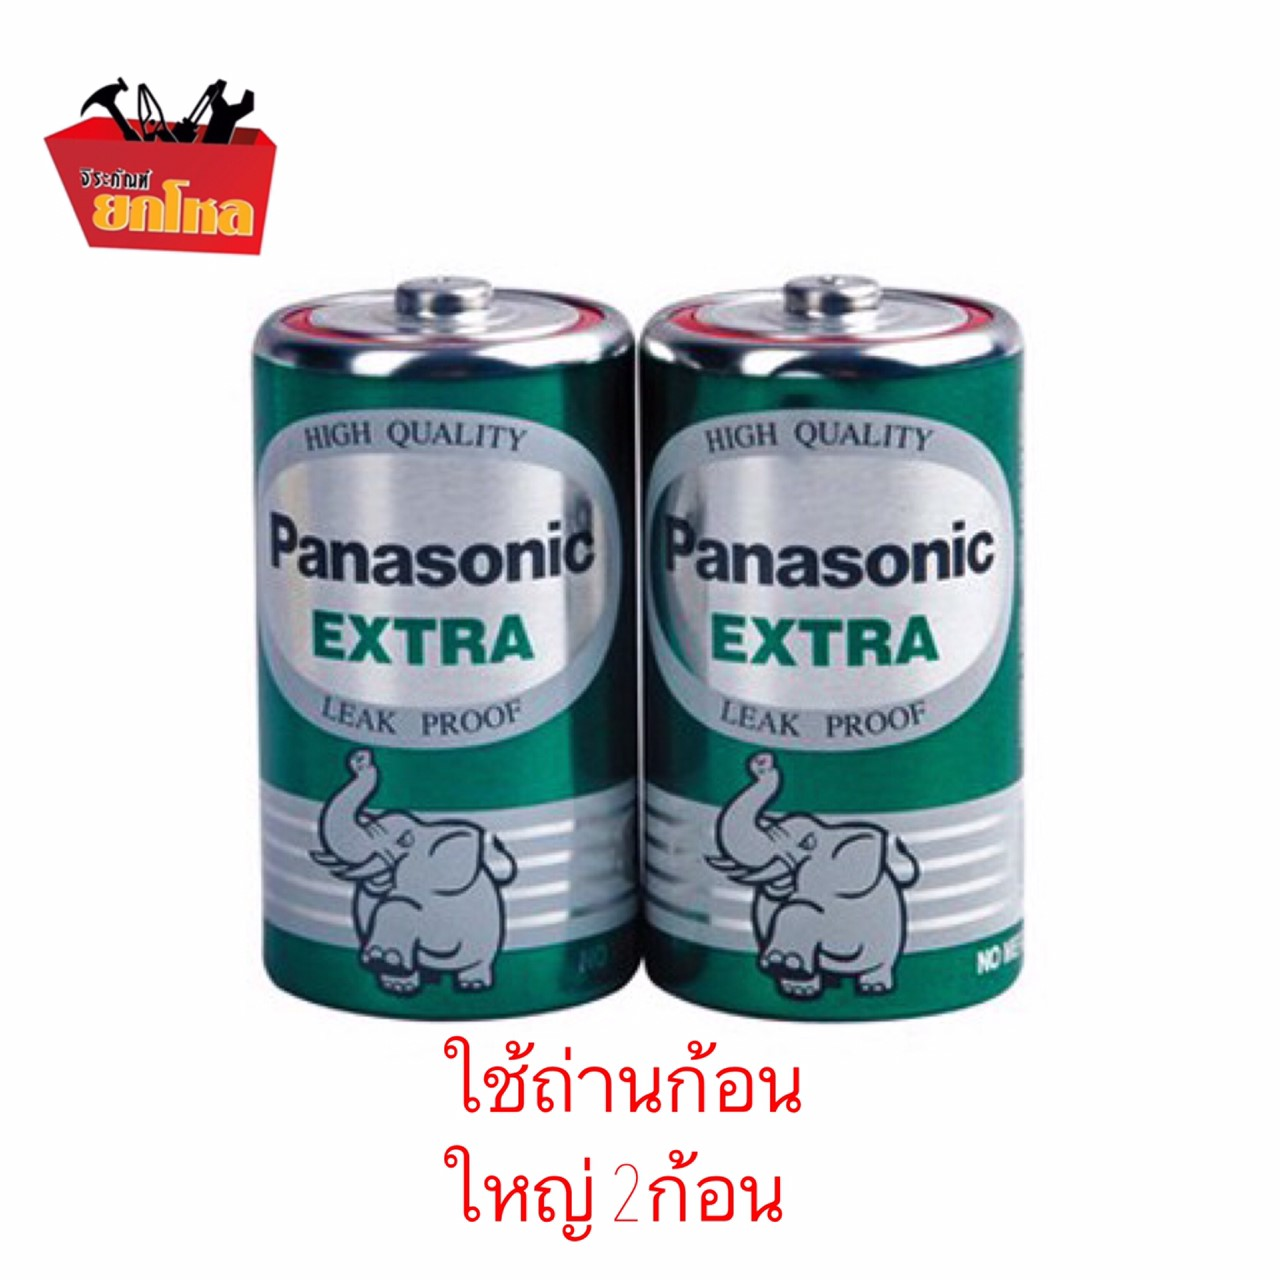Battery: (639, 272, 1028, 1023), (251, 272, 640, 1023)
